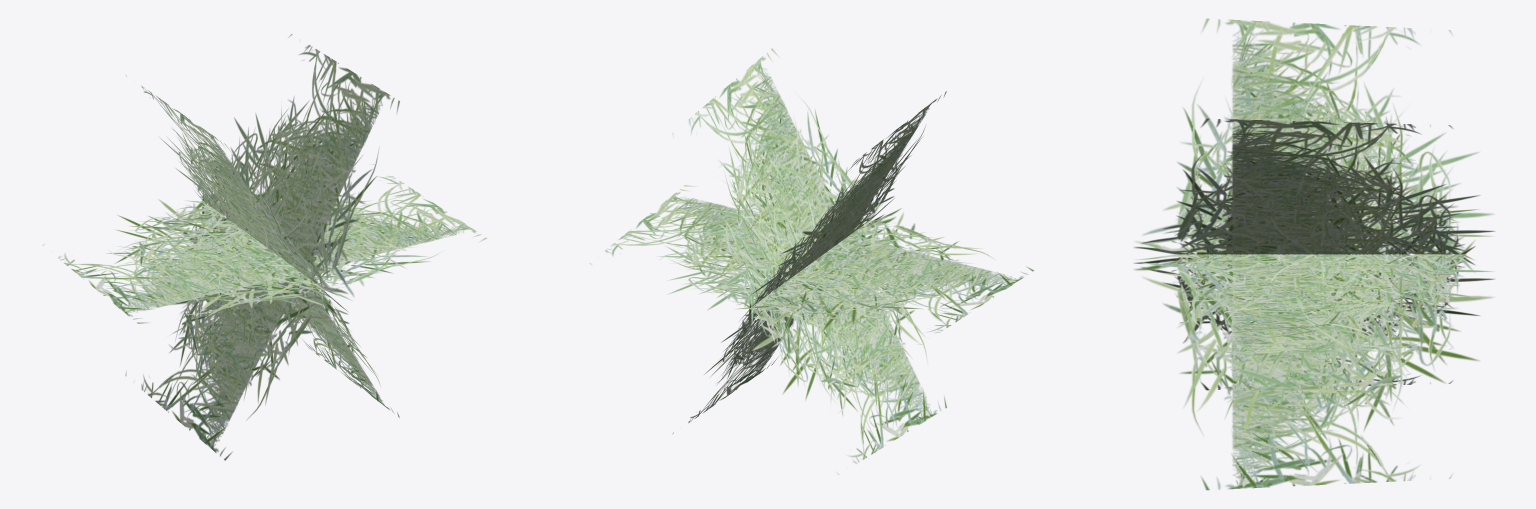
Rendered from GrassCard_Wild_B.glb.
3 views of the same model, side by side, from view 1: azimuth 30°, elevation 25°; view 2: azimuth 150°, elevation 25°; view 3: azimuth 270°, elevation 25° (orthographic). The views are drawn at different scales.
Parts seen in each view (by area): view 1: GrassCard_Wild_B; view 2: GrassCard_Wild_B; view 3: GrassCard_Wild_B.
Boxes of the visible parts, x1,y1,x2,y2 form: GrassCard_Wild_B: (42, 34, 487, 460); GrassCard_Wild_B: (589, 48, 1034, 474); GrassCard_Wild_B: (1133, 18, 1495, 490).
Size of the model in its own units: 0.35 by 0.3031 by 0.3.
1 material, 1 textured.
